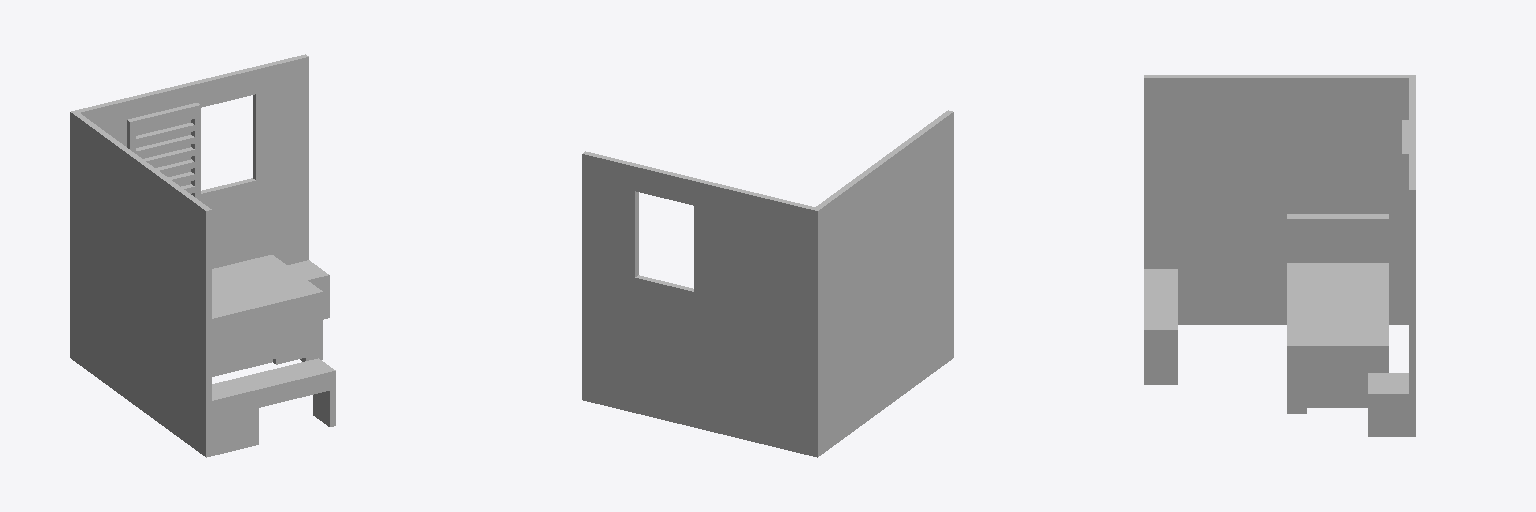
Rendered from PIXEL_ROOM.obj.
3 views of the same model, side by side, from view 1: azimuth 30°, elevation 25°; view 2: azimuth 150°, elevation 25°; view 3: azimuth 270°, elevation 25° (orthographic).
Parts seen in each view (by area): view 1: object 1; view 2: object 1; view 3: object 1.
Boxes of the visible parts, box(x1,y1,x2,y2) form: object 1: box(70, 54, 335, 457); object 1: box(582, 110, 953, 457); object 1: box(1144, 75, 1415, 436).
Bounding box in the file's own units: 4 × 4 × 4.